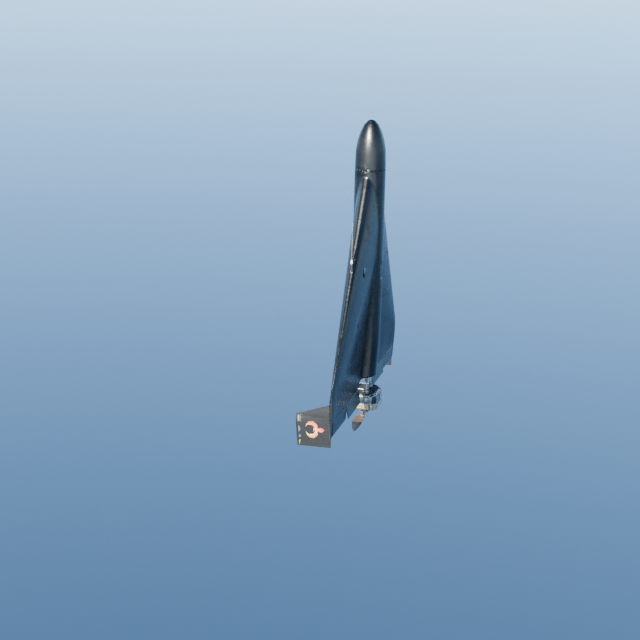shahed: (296, 119, 395, 448)
